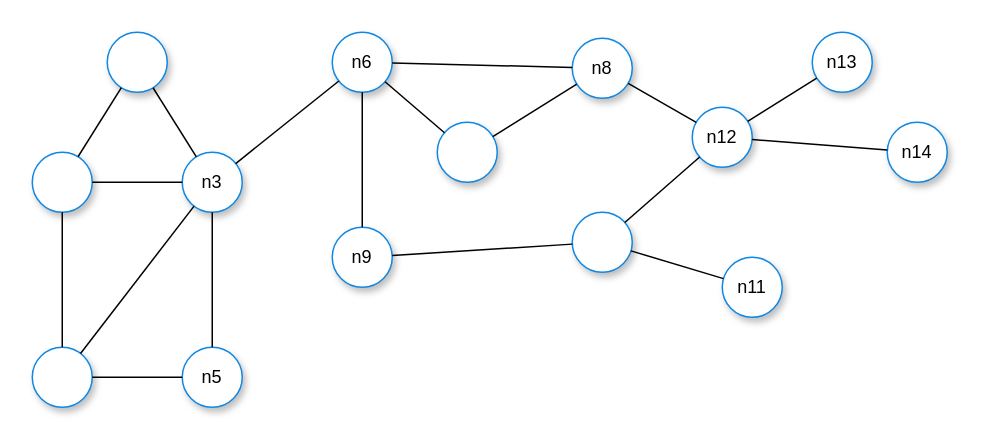
This 983x444 diagram has some shape labels left out. The shapes that lost their labels are listed below. From the top down, each one's centre as x and y in pixels, then its label:
the point at 138,64: n4
the point at 468,154: n7
the point at 63,184: n2
the point at 603,244: n10
the point at 63,379: n1
